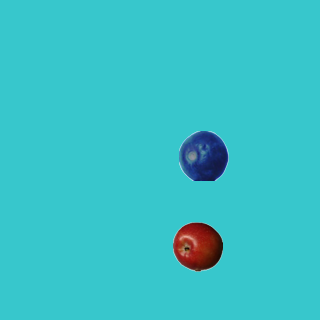Apple Braeburn: (172, 221, 222, 271)
Huckleberry: (178, 130, 228, 180)
